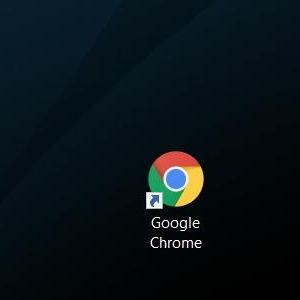chrome: (146, 150, 204, 209)
